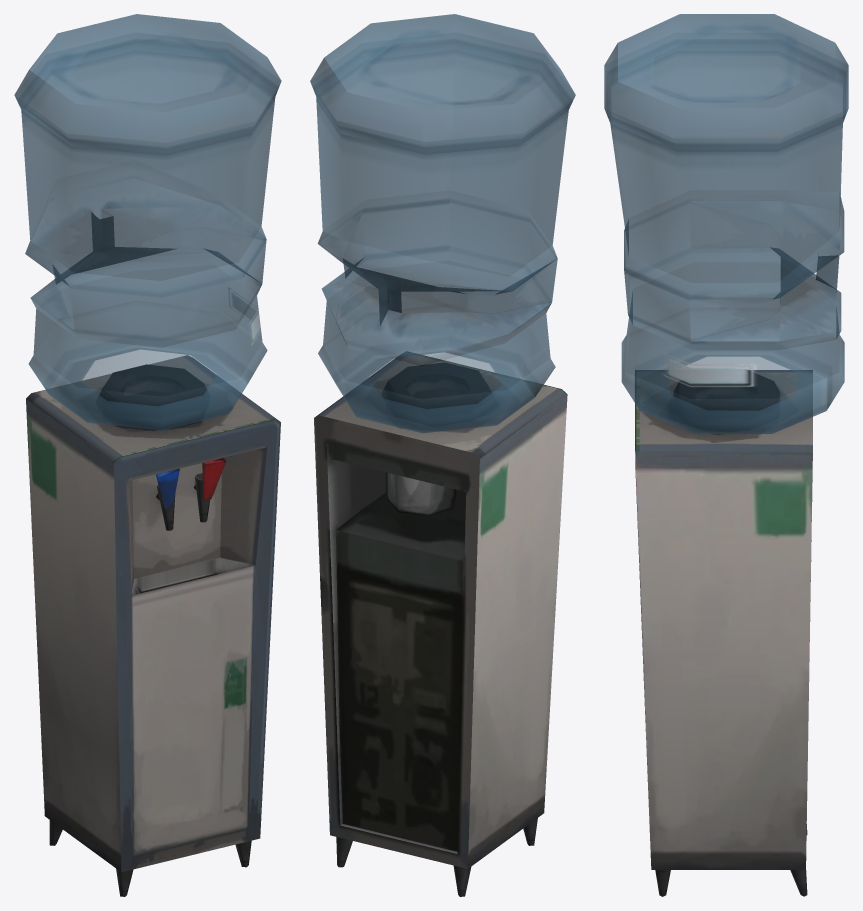
3 views of the same model, side by side, from view 1: azimuth 30°, elevation 25°; view 2: azimuth 150°, elevation 25°; view 3: azimuth 270°, elevation 25° (orthographic).
Visible parts, largest first — view 1: body0_model0_lod0_mesh0, body0_model0_lod0_mesh1; view 2: body0_model0_lod0_mesh0, body0_model0_lod0_mesh1; view 3: body0_model0_lod0_mesh1, body0_model0_lod0_mesh0.
Part boxes in pixels (x1,y1,x2,y2): body0_model0_lod0_mesh0: (26,355,280,896); body0_model0_lod0_mesh1: (14,14,281,430); body0_model0_lod0_mesh0: (314,351,567,896); body0_model0_lod0_mesh1: (310,14,575,433); body0_model0_lod0_mesh1: (604,14,848,433); body0_model0_lod0_mesh0: (635,370,812,896).
Size of the model in its own units: 23.23 by 82.3 by 22.64.
2 materials, 2 textured.
